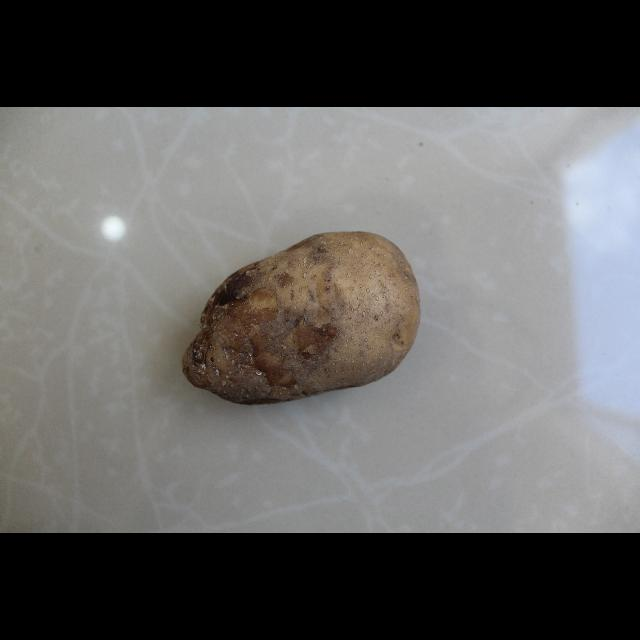Diseased-fungal potato: (178, 232, 422, 406)
